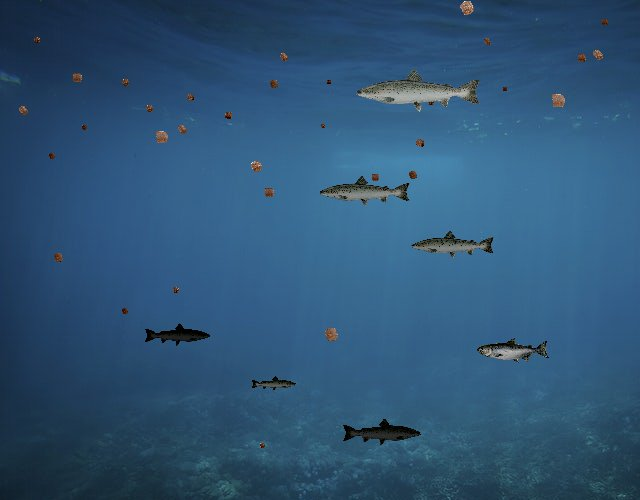Fish: (354, 67, 483, 113), (319, 174, 413, 208), (410, 229, 496, 260), (342, 417, 423, 446), (478, 338, 551, 364), (144, 322, 212, 346), (251, 375, 298, 392)
Pellet: (244, 154, 269, 179), (168, 283, 183, 298), (118, 304, 132, 318), (30, 33, 44, 47), (256, 440, 268, 452)
